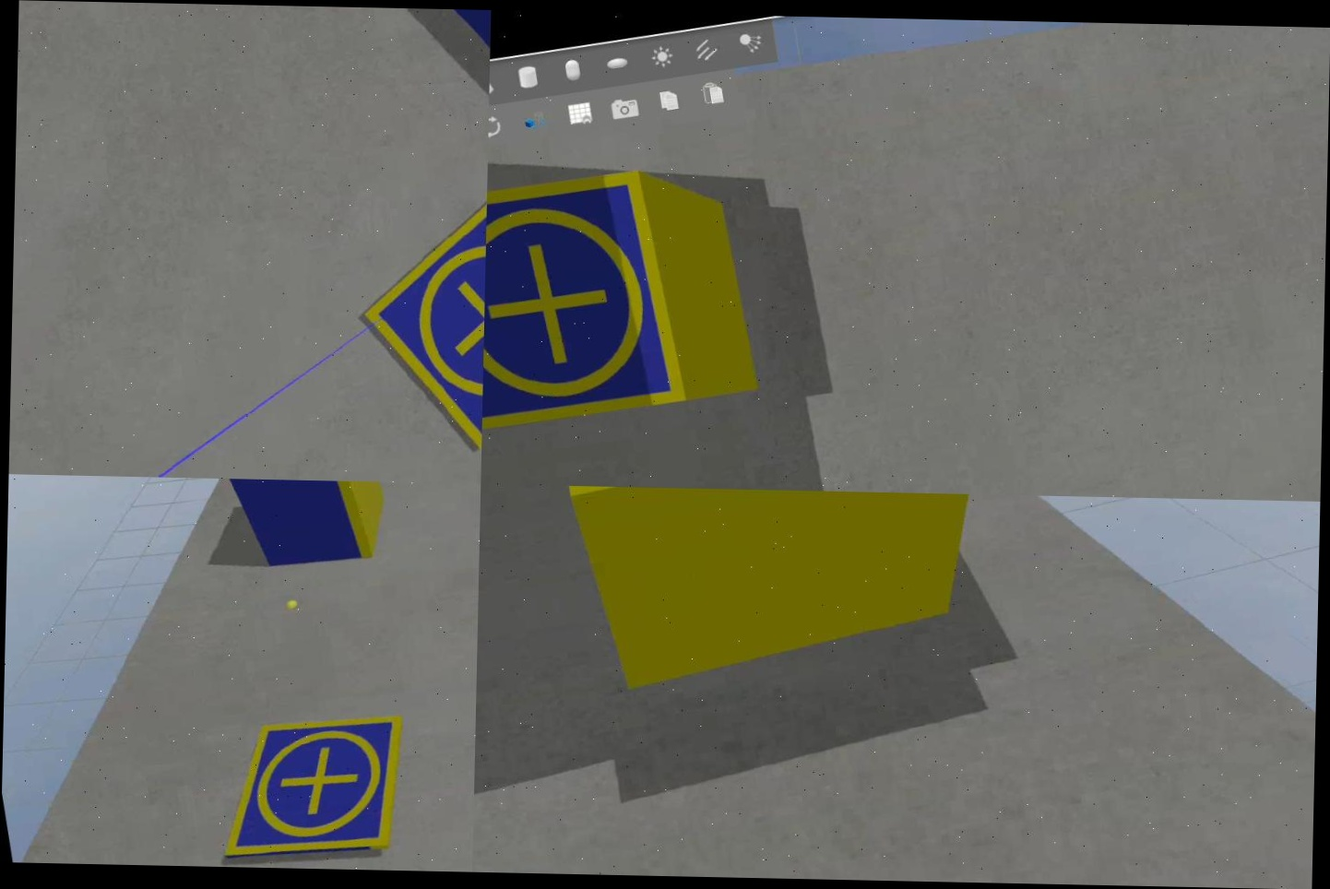small_base: (481, 161, 702, 446), (339, 170, 488, 472), (205, 704, 426, 871)
